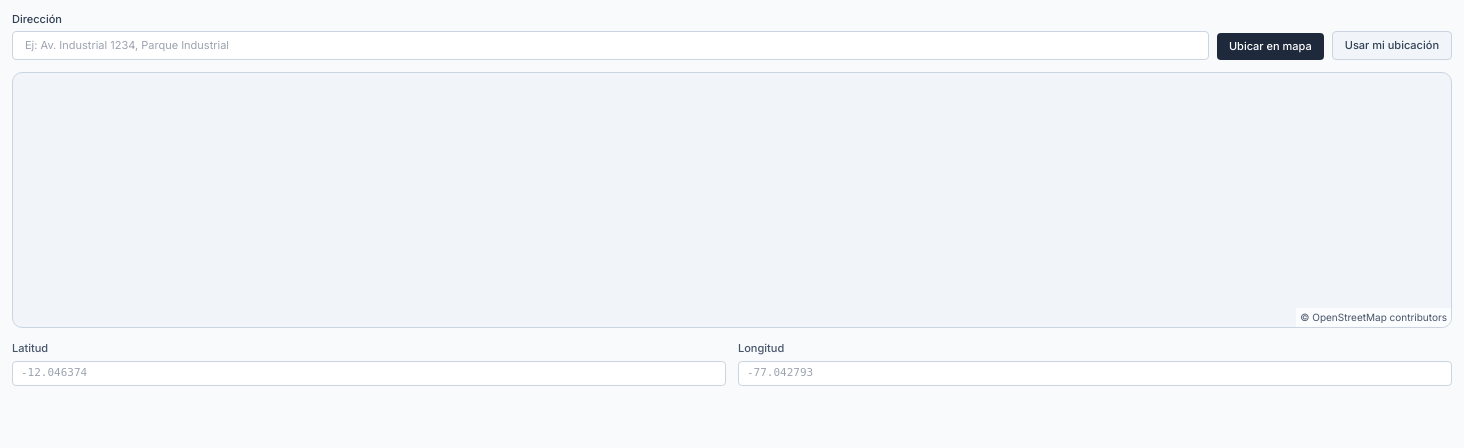
Scenario: F005.4 · Geolocalización de Sedes — Full E2E & Component Test Suite › Tier 2: Boundary & Corner Cases › T2-GEO-03: Geolocation timeout (code 3) shows friendly alert
Click the button "Usar mi ubicación".
click(1392, 45)  # box top-left (1332, 31), bottom-right (1452, 60)
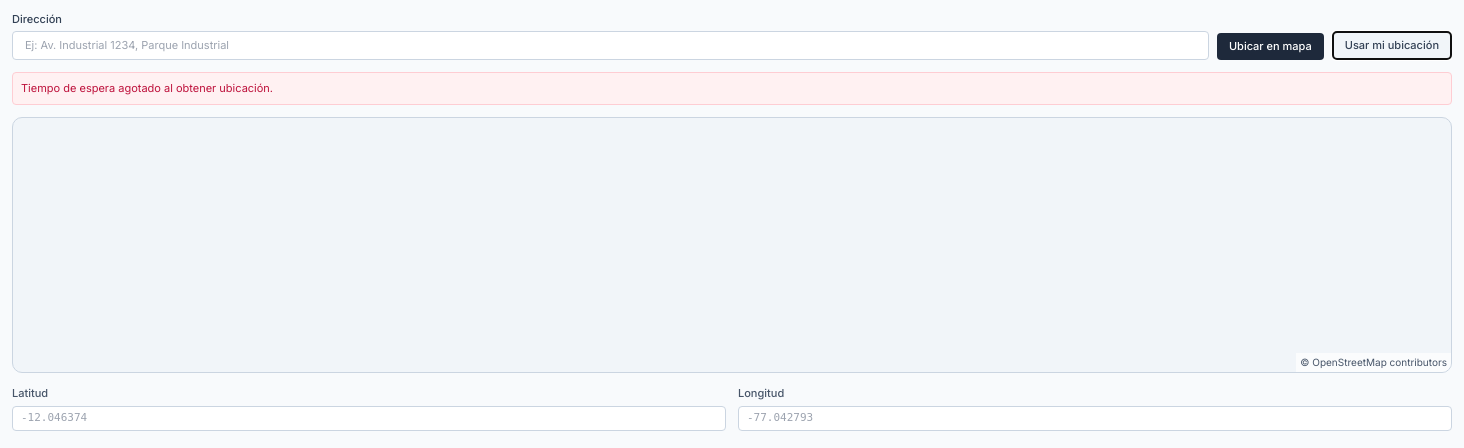
Expected: the message shows "Tiempo de espera agotado", top-left (21, 81), bottom-right (273, 95)
